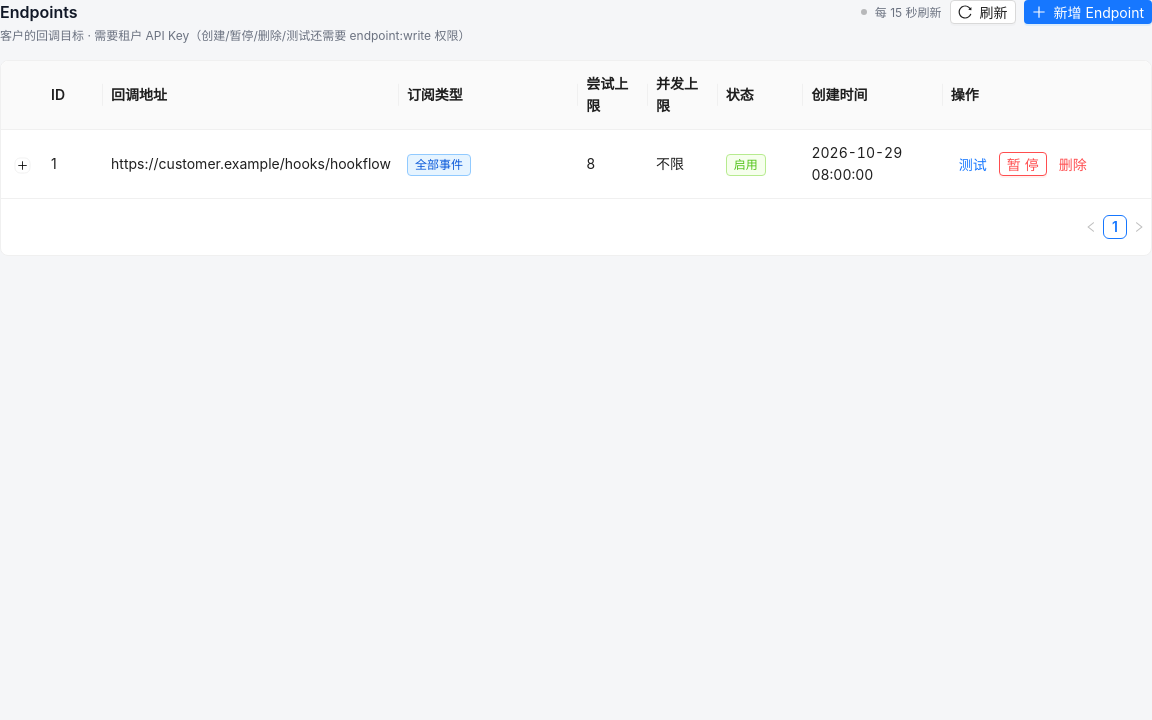
EndpointsPage › rejects a payload that is not a JSON object before sending
Click the button "测试". click: (973, 164)
box: [951, 152, 995, 176]
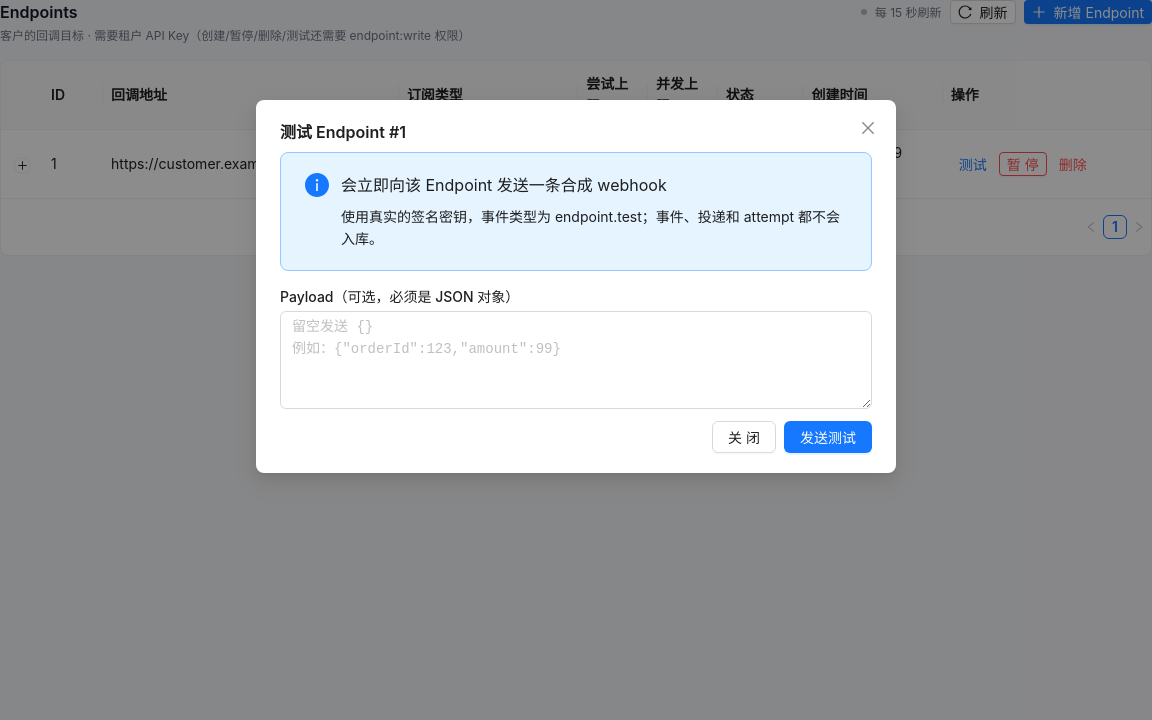
Type "[1,2,3]" into the text box with placeholder "留空发送 {} 例如：{\"orderId\":123,\"amount\":99}". click: (576, 360)
box: [280, 311, 872, 409]
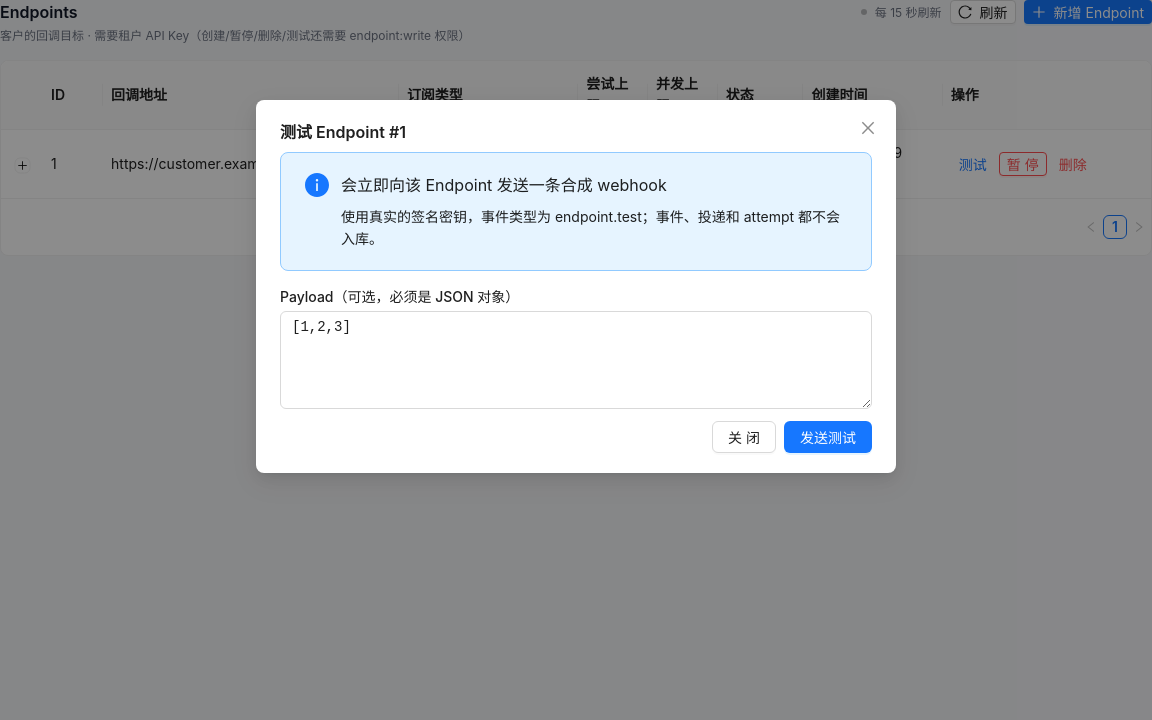
Click the button "发送测试". click: (828, 437)
box: [784, 421, 872, 453]
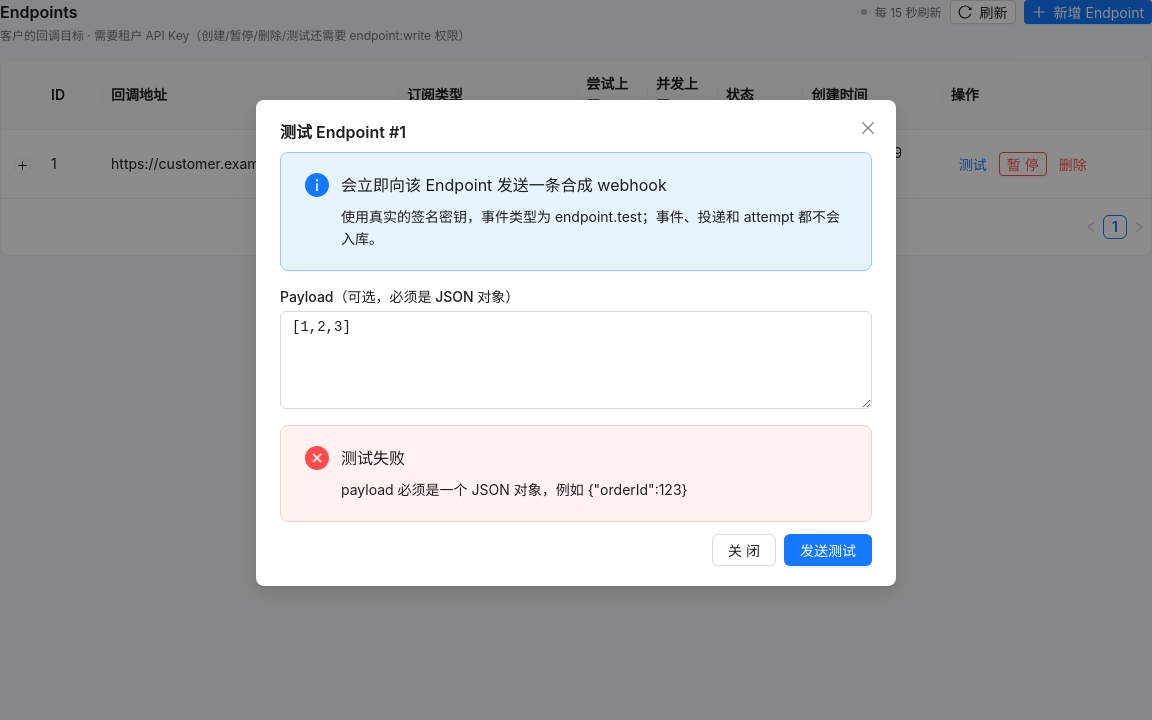
Expected: the text "payload 必须是一个 JSON 对象，例如 {\"orderId\":123}" is shown, [341, 481, 688, 498]
